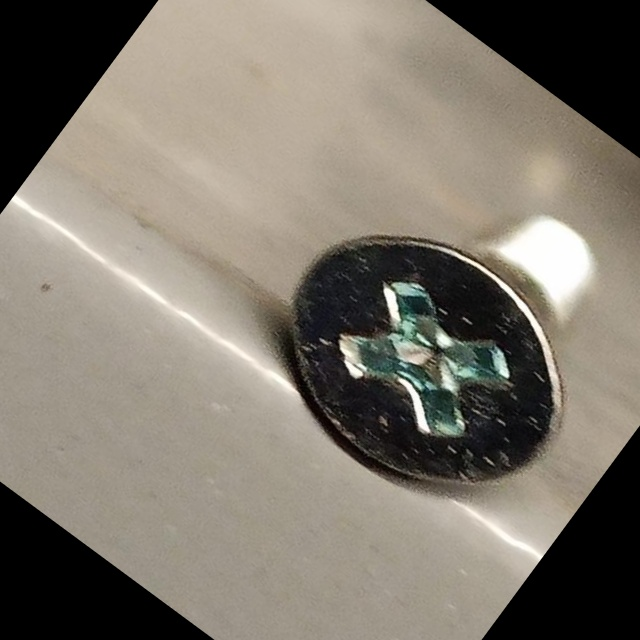phillips: (240, 184, 612, 541)
